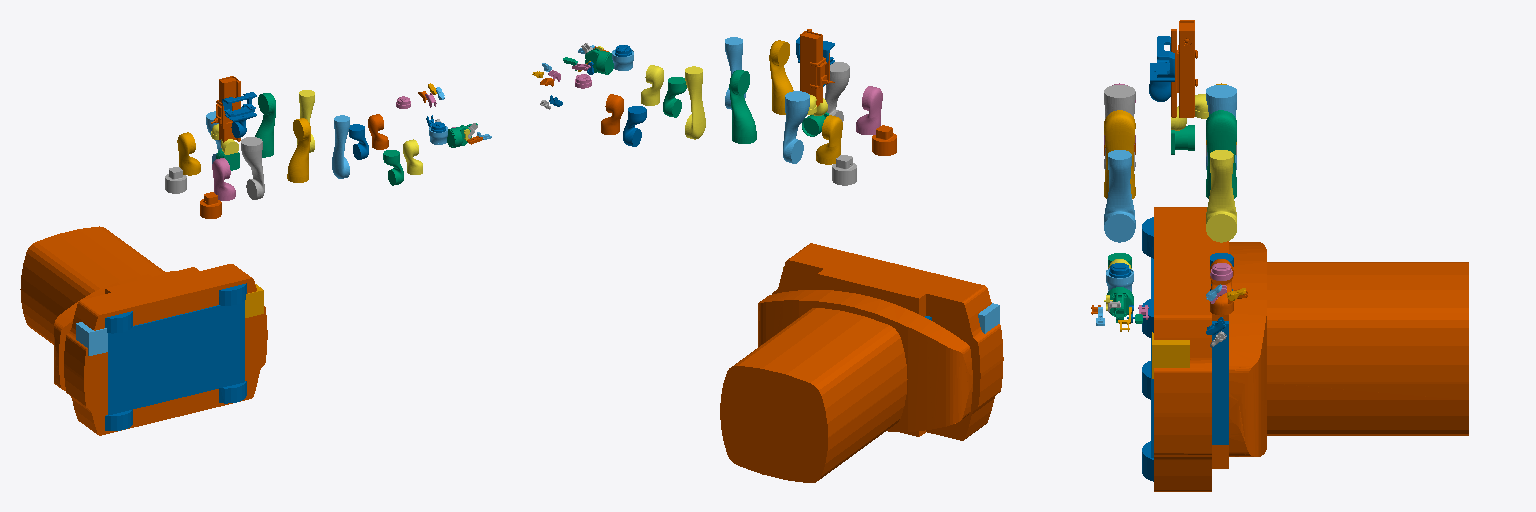
--- What the picture shows (computed from the rendered views, not written in the file) ---
The picture shows the robot from 3 angles, left to right: view 1: azimuth 30°, elevation 25°; view 2: azimuth 150°, elevation 25°; view 3: azimuth 270°, elevation 25°; orthographic projection.
Robot: movo — 58 links, 57 joints (21 revolute, 5 continuous, 4 prismatic, 27 fixed); root link world_link; default pose: all joints at 0.
Links seen in each view (by area): view 1: linear_actuator_fixed_link, base_chassis_link, right_arm_half_2_link, right_arm_half_1_link, kinect2_link, left_arm_half_2_link, right_forearm_link, tilt_link, rear_laser_link, right_shoulder_link, left_shoulder_link; view 2: linear_actuator_fixed_link, kinect2_link, left_arm_half_2_link, left_arm_half_1_link, right_arm_half_2_link, left_forearm_link, left_shoulder_link, right_shoulder_link, right_arm_half_1_link, left_wrist_spherical_1_link, right_wrist_spherical_2_link, left_wrist_spherical_2_link (+5 smaller); view 3: linear_actuator_fixed_link, base_chassis_link, right_forearm_link, left_forearm_link, kinect2_link, right_arm_half_2_link, left_arm_half_2_link, tilt_link, front_laser_link, right_arm_half_1_link, left_arm_half_1_link, left_wrist_spherical_2_link (+2 smaller).
Link boxes in pixels (<box>): linear_actuator_fixed_link: <box>20,226,267,435</box>; base_chassis_link: <box>105,283,246,430</box>; right_arm_half_2_link: <box>287,118,310,182</box>; right_arm_half_1_link: <box>241,137,264,199</box>; kinect2_link: <box>211,76,240,142</box>; left_arm_half_2_link: <box>255,93,275,157</box>; right_forearm_link: <box>332,115,349,178</box>; tilt_link: <box>222,92,256,137</box>; rear_laser_link: <box>76,322,107,355</box>; right_shoulder_link: <box>212,158,235,200</box>; left_shoulder_link: <box>177,132,200,175</box>; linear_actuator_fixed_link: <box>720,243,1003,482</box>; kinect2_link: <box>800,29,834,106</box>; left_arm_half_2_link: <box>729,70,756,143</box>; left_arm_half_1_link: <box>783,91,809,163</box>; right_arm_half_2_link: <box>769,40,793,114</box>; left_forearm_link: <box>685,66,705,139</box>; left_shoulder_link: <box>816,115,842,164</box>; right_shoulder_link: <box>856,86,882,134</box>; right_arm_half_1_link: <box>825,62,849,121</box>; left_wrist_spherical_1_link: <box>623,106,646,146</box>; right_wrist_spherical_2_link: <box>641,65,663,105</box>; left_wrist_spherical_2_link: <box>601,94,623,134</box>; linear_actuator_fixed_link: <box>1154,207,1468,491</box>; base_chassis_link: <box>1142,217,1228,481</box>; right_forearm_link: <box>1104,150,1135,242</box>; left_forearm_link: <box>1206,150,1236,242</box>; kinect2_link: <box>1171,20,1197,117</box>; right_arm_half_2_link: <box>1104,110,1135,198</box>; left_arm_half_2_link: <box>1206,110,1236,198</box>; tilt_link: <box>1149,36,1174,101</box>; front_laser_link: <box>1152,332,1189,378</box>; right_arm_half_1_link: <box>1104,85,1135,170</box>; left_arm_half_1_link: <box>1206,85,1236,169</box>; left_wrist_spherical_2_link: <box>1210,259,1233,314</box>.
Bounding box of the posed robot: 1.71 × 0.991 × 1.32 m (x, y, z).
Meshes: 27 distinct files referenced, 38 mesh visuals loaded (22 OBJ); not drawn: 5 (reference not matched to a file when rendering).

The robot description file, URDF, robot "movo":
<?xml version="1.0" ?>
<!-- =================================================================================== -->
<!-- |    This document was autogenerated by xacro from movo.urdf.xacro                | -->
<!-- |    EDITING THIS FILE BY HAND IS NOT RECOMMENDED                                 | -->
<!-- =================================================================================== -->
<!--
Software License Agreement (BSD)
\file      movo.urdf.xacro
\authors   Patrick Hussey
\copyright Copyright (c) 2017, Kinova Robotics inc. All rights reserved.
Redistribution and use in source and binary forms, with or without modification,
are permitted provided that the following conditions are met:
    * Redistributions of source code must retain the above copyright notice,
      this list of conditions and the following disclaimer.
    * Redistributions in binary form must reproduce the above copyright notice,
      this list of conditions and the following disclaimer in the documentation
      and/or other materials provided with the distribution.
    * Neither the name of the copyright holder nor the names of its contributors
      may be used to endorse or promote products derived from this software
      without specific prior written permission.
THIS SOFTWARE IS PROVIDED BY THE COPYRIGHT HOLDERS AND CONTRIBUTORS
"AS IS" AND ANY EXPRESS OR IMPLIED WARRANTIES, INCLUDING, BUT NOT
LIMITED TO, THE IMPLIED WARRANTIES OF MERCHANTABILITY AND FITNESS FOR
A PARTICULAR PURPOSE ARE DISCLAIMED. IN NO EVENT SHALL THE COPYRIGHT HOLDER OR
CONTRIBUTORS BE LIABLE FOR ANY DIRECT, INDIRECT, INCIDENTAL, SPECIAL,
EXEMPLARY, OR CONSEQUENTIAL DAMAGES (INCLUDING, BUT NOT LIMITED TO,
PROCUREMENT OF SUBSTITUTE GOODS OR SERVICES; LOSS OF USE, DATA, OR
PROFITS; OR BUSINESS INTERRUPTION) HOWEVER CAUSED AND ON ANY THEORY OF
LIABILITY, WHETHER IN CONTRACT, STRICT LIABILITY, OR TORT (INCLUDING
NEGLIGENCE OR OTHERWISE) ARISING IN ANY WAY OUT OF THE USE OF THIS
SOFTWARE, EVEN IF ADVISED OF THE POSSIBILITY OF SUCH DAMAGE.
-->
<!-- https://github.mit.edu/Learning-and-Intelligent-Systems/ltamp_pr2/blob/master/control_tools/ik/ik_tools/movo_ik/movo_robotiq.urdf -->
<robot name="movo" xmlns:xacro="http://ros.org/wiki/xacro">
  <!-- Included URDF/XACRO Files -->
  <gazebo>
    <plugin filename="libgazebo_ros_control.so" name="gazebo_ros_control">
      <robotNamespace>/</robotNamespace>
    </plugin>
    <plugin filename="libgazebo_ros_force_based_move.so" name="object_controller">
      <robotNamespace>/</robotNamespace>
      <commandTopic>/movo/cmd_vel</commandTopic>
      <odometryTopic>/movo/odometry/wheel_odometry</odometryTopic>
      <odometryFrame>odom</odometryFrame>
      <odometryRate>100.0</odometryRate>
      <cmdVelTimeOut>0.2</cmdVelTimeOut>
      <robotBaseFrame>base_link</robotBaseFrame>
      <publishOdometryTf>0</publishOdometryTf>
      <yaw_velocity_p_gain>500.0</yaw_velocity_p_gain>
      <x_velocity_p_gain>10000.0</x_velocity_p_gain>
      <y_velocity_p_gain>10000.0</y_velocity_p_gain>
    </plugin>
    <plugin filename="libgazebo_ros_p3d.so" name="gazebo_ros_p3d">
      <bodyName>base_link</bodyName>
      <topicName>ground_truth_odom</topicName>
      <alwaysOn>true</alwaysOn>
      <updateRate>100.0</updateRate>
    </plugin>
  </gazebo>
  <!-- Modification -->
  <link name="world_link">
    <inertial>
      <mass value="1"/>
      <inertia ixx="0.04" ixy="0.00" ixz="0.00" iyy="0.04" iyz="0.00" izz="0.02"/>
    </inertial>
  </link>
  <link name="base_link_0">
    <inertial>
      <mass value="1"/>
      <inertia ixx="0.04" ixy="0.00" ixz="0.00" iyy="0.04" iyz="0.00" izz="0.02"/>
    </inertial>
  </link>
  <link name="base_link_1">
    <inertial>
      <mass value="1"/>
      <inertia ixx="0.04" ixy="0.00" ixz="0.00" iyy="0.04" iyz="0.00" izz="0.02"/>
    </inertial>
  </link>
  <joint name="x" type="prismatic">
    <parent link="world_link"/>
    <child link="base_link_0"/>
    <axis xyz="1 0 0"/>
    <limit effort="1000.0" lower="-2.5" upper="2.5" velocity="1.0"/>
  </joint>
  <joint name="y" type="prismatic">
    <parent link="base_link_0"/>
    <child link="base_link_1"/>
    <axis xyz="0 1 0"/>
    <limit effort="1000.0" lower="-2.5" upper="2.5" velocity="1.0"/>
  </joint>
  <joint name="theta" type="continuous">
    <parent link="base_link_1"/>
    <child link="base_link"/>
    <axis xyz="0 0 1"/>
    <limit effort="1000.0" velocity="1.5708"/>
  </joint>
  <!-- Base link is the center of the robot's chassis between the motors projected on the ground -->
  <link name="base_link">
    <inertial>
      <mass value="1"/>
      <inertia ixx="0.04" ixy="0.00" ixz="0.00" iyy="0.04" iyz="0.00" izz="0.02"/>
    </inertial>
  </link>
  <gazebo reference="base_link">
    <mu1>0.0</mu1>
  </gazebo>
  <joint name="base_chassis_joint" type="fixed">
    <origin rpy="0 0 0" xyz="0 0 0.0762"/>
    <parent link="base_link"/>
    <child link="base_chassis_link"/>
  </joint>
  <link name="base_chassis_link">
    <inertial>
      <mass value="1"/>
      <inertia ixx="0.04" ixy="0.00" ixz="0.00" iyy="0.04" iyz="0.00" izz="0.02"/>
    </inertial>
    <collision>
      <geometry>
        <mesh filename="package://movo_description_drake/meshes/movo_components/collision/vector_base_collision.obj"/>
      </geometry>
    </collision>
    <visual>
      <origin rpy="0 0 0" xyz="0 0 0"/>
      <geometry>
        <mesh filename="package://movo_description_drake/meshes/movo_components/collision/vector_base_collision.obj"/>
      </geometry>
    </visual>
  </link>
  <gazebo reference="base_chassis_link">
    <laserRetro>0</laserRetro>
  </gazebo>
  <gazebo reference="base_chassis_link">
    <mu1>0.0</mu1>
  </gazebo>
  <joint name="linear_actuator_fixed_joint" type="fixed">
    <origin rpy="0 0 0" xyz="0 0 0"/>
    <parent link="base_chassis_link"/>
    <child link="linear_actuator_fixed_link"/>
  </joint>
  <link name="linear_actuator_fixed_link">
    <inertial>
      <mass value="1"/>
      <inertia ixx="0.04" ixy="0.00" ixz="0.00" iyy="0.04" iyz="0.00" izz="0.02"/>
    </inertial>
    <collision>
      <geometry>
        <mesh filename="package://movo_description_drake/meshes/movo_components/collision/movo_fixed_body_collision.obj"/>
      </geometry>
    </collision>
    <visual>
      <origin rpy="0 0 0" xyz="0 0 0"/>
      <geometry>
        <mesh filename="package://movo_description_drake/meshes/movo_components/collision/movo_fixed_body_collision.obj"/>
      </geometry>
    </visual>
  </link>
  <gazebo reference="linear_actuator_fixed_link">
    <laserRetro>0</laserRetro>
  </gazebo>
  <joint name="linear_joint" type="prismatic">
    <parent link="linear_actuator_fixed_link"/>
    <child link="linear_actuator_link"/>
    <origin rpy="0 0 0" xyz="0.0771402 0 0.3938763"/>
    <axis xyz="0 0 1"/>
    <limit effort="1000" lower="0.0" upper="0.472" velocity="0.20"/>
    <dynamics damping="0.0" friction="0.0"/>
  </joint>
  <link name="linear_actuator_link">
    <visual>
      <geometry>
        <mesh filename="package://movo_description_drake/meshes/movo_components/collision/movo_upper_body_collision.stl"/>
      </geometry>
    </visual>
    <collision>
      <geometry>
        <mesh filename="package://movo_description_drake/meshes/movo_components/collision/movo_upper_body_collision_modified.obj"/>
      </geometry>
    </collision>
    <inertial>
      <mass value="1"/>
      <inertia ixx="0.04" ixy="0.00" ixz="0.00" iyy="0.04" iyz="0.00" izz="0.02"/>
    </inertial>
  </link>
  <gazebo reference="linear_actuator_link">
    <laserRetro>0</laserRetro>
  </gazebo>
  <transmission name="linear_trans">
    <type>transmission_interface/SimpleTransmission</type>
    <joint name="linear_joint">
      <hardwareInterface>PositionJointInterface</hardwareInterface>
    </joint>
    <actuator name="linear_motor">
      <mechanicalReduction>1</mechanicalReduction>
    </actuator>
  </transmission>
  <link name="sic_imu_frame">
    <inertial>
      <mass value="1"/>
      <inertia ixx="0.04" ixy="0.00" ixz="0.00" iyy="0.04" iyz="0.00" izz="0.02"/>
    </inertial>
  </link>
  <joint name="sic_imu_joint" type="fixed">
    <origin rpy="3.14159 0 1.570795" xyz="0.0326421 0.0899448 0.0082008"/>
    <parent link="base_chassis_link"/>
    <child link="sic_imu_frame"/>
  </joint>
  <gazebo>
    <plugin filename="libhector_gazebo_ros_imu.so" name="sic_imu_controller">
      <alwaysOn>1</alwaysOn>
      <updateRate>50.0</updateRate>
      <bodyName>sic_imu_frame</bodyName>
      <topicName>/movo/feedback/sic_imu</topicName>
      <accelDrift>0.0005 0.0005 0.0005</accelDrift>
      <accelGaussianNoise>0.0005 0.0005 0.0005</accelGaussianNoise>
      <rateDrift>0.0005 0.0005 0.0005</rateDrift>
      <rateGaussianNoise>0.00005 0.00005 0.00005 </rateGaussianNoise>
      <headingDrift>0.00005</headingDrift>
      <headingGaussianNoise>0.00005</headingGaussianNoise>
    </plugin>
  </gazebo>
  <joint name="front_laser_joint" type="fixed">
    <origin rpy="3.14159 0 0" xyz="0.3375 0 0.1439106"/>
    <parent link="base_chassis_link"/>
    <child link="front_laser_link"/>
  </joint>
  <link name="front_laser_link">
    <visual>
      <geometry>
        <box size="0.1 0.1 0.1"/>
      </geometry>
    </visual>
    <collision>
      <geometry>
        <box size="0.1 0.1 0.1"/>
      </geometry>
    </collision>
    <inertial>
      <mass value="1"/>
      <inertia ixx="0.04" ixy="0.00" ixz="0.00" iyy="0.04" iyz="0.00" izz="0.02"/>
    </inertial>
  </link>
  <gazebo reference="front_laser_link">
    <sensor name="front_laser" type="ray">
      <pose>0 0 0 0 0 0</pose>
      <visualize>false</visualize>
      <update_rate>15</update_rate>
      <ray>
        <scan>
          <horizontal>
            <samples>720</samples>
            <resolution>1</resolution>
            <min_angle>-2.0</min_angle>
            <max_angle>2.0</max_angle>
          </horizontal>
        </scan>
        <range>
          <min>0.1</min>
          <max>25.0</max>
          <resolution>0.01</resolution>
        </range>
        <noise>
          <type>gaussian</type>
          <mean>0.0</mean>
          <stddev>0.01</stddev>
        </noise>
      </ray>
      <plugin filename="libgazebo_ros_laser.so" name="front_laser_node">
        <topicName>/movo/front_scan</topicName>
        <frameName>front_laser_link</frameName>
      </plugin>
    </sensor>
  </gazebo>
  <joint name="rear_laser_joint" type="fixed">
    <origin rpy="3.14159 0 3.14159" xyz="-0.3375 0 0.1439106"/>
    <parent link="base_chassis_link"/>
    <child link="rear_laser_link"/>
  </joint>
  <link name="rear_laser_link">
    <visual>
      <geometry>
        <box size="0.1 0.1 0.1"/>
      </geometry>
    </visual>
    <collision>
      <geometry>
        <box size="0.1 0.1 0.1"/>
      </geometry>
    </collision>
    <inertial>
      <mass value="1"/>
      <inertia ixx="0.04" ixy="0.00" ixz="0.00" iyy="0.04" iyz="0.00" izz="0.02"/>
    </inertial>
  </link>
  <gazebo reference="rear_laser_link">
    <sensor name="rear_laser" type="ray">
      <pose>0 0 0 0 0 0</pose>
      <visualize>false</visualize>
      <update_rate>15</update_rate>
      <ray>
        <scan>
          <horizontal>
            <samples>720</samples>
            <resolution>1</resolution>
            <min_angle>-2.0</min_angle>
            <max_angle>2.0</max_angle>
          </horizontal>
        </scan>
        <range>
          <min>0.1</min>
          <max>25.0</max>
          <resolution>0.01</resolution>
        </range>
        <noise>
          <type>gaussian</type>
          <mean>0.0</mean>
          <stddev>0.01</stddev>
        </noise>
      </ray>
      <plugin filename="libgazebo_ros_laser.so" name="rear_laser_node">
        <topicName>/movo/rear_scan</topicName>
        <frameName>rear_laser_link</frameName>
      </plugin>
    </sensor>
  </gazebo>
  <joint name="pan_base_joint" type="fixed">
    <origin rpy="0 0 0" xyz="0.19735 0 0.3449888"/>
    <parent link="linear_actuator_link"/>
    <child link="pan_base_link"/>
  </joint>
  <link name="pan_base_link">
    <visual>
      <geometry>
        <mesh filename="package://movo_description_drake/meshes/pan_tilt/collision/pan_tilt_base.obj"/>
      </geometry>
    </visual>
    <collision>
      <geometry>
        <mesh filename="package://movo_description_drake/meshes/pan_tilt/collision/pan_tilt_base.obj"/>
      </geometry>
    </collision>
    <inertial>
      <mass value="1"/>
      <inertia ixx="0.04" ixy="0.00" ixz="0.00" iyy="0.04" iyz="0.00" izz="0.02"/>
    </inertial>
  </link>
  <joint name="pan_joint" type="revolute">
    <origin rpy="3.14159 0 0" xyz="0 0 0.05525"/>
    <axis xyz="0 0 1"/>
    <parent link="pan_base_link"/>
    <child link="pan_link"/>
    <limit effort="7.0" lower="-1.570796326794897" upper="1.570796326794897" velocity="0.907571211"/>
  </joint>
  <transmission name="pan_trans" type="SimpleTransmission">
    <type>transmission_interface/SimpleTransmission</type>
    <joint name="pan_joint">
      <hardwareInterface>PositionJointInterface</hardwareInterface>
    </joint>
    <actuator name="pan_actuator">
      <mechanicalReduction>1</mechanicalReduction>
    </actuator>
  </transmission>
  <link name="pan_link">
    <visual>
      <geometry>
        <mesh filename="package://movo_description_drake/meshes/pan_tilt/collision/pan_link.obj"/>
      </geometry>
    </visual>
    <collision>
      <origin rpy="0 0 0" xyz="0 0 0"/>
      <geometry>
        <mesh filename="package://movo_description_drake/meshes/pan_tilt/collision/pan_link.obj"/>
      </geometry>
    </collision>
    <inertial>
      <mass value="1"/>
      <inertia ixx="0.04" ixy="0.00" ixz="0.00" iyy="0.04" iyz="0.00" izz="0.02"/>
    </inertial>
  </link>
  <joint name="tilt_joint" type="revolute">
    <origin rpy="-1.570795 1.570795 0" xyz="0 0.026 -0.09075"/>
    <axis xyz="0 0 1"/>
    <parent link="pan_link"/>
    <child link="tilt_link"/>
    <limit effort="7.0" lower="-1.570796326794897" upper="1.570796326794897" velocity="0.907571211"/>
  </joint>
  <transmission name="tilt_trans" type="SimpleTransmission">
    <type>transmission_interface/SimpleTransmission</type>
    <joint name="tilt_joint">
      <hardwareInterface>PositionJointInterface</hardwareInterface>
    </joint>
    <actuator name="tilt_actuator">
      <mechanicalReduction>1</mechanicalReduction>
    </actuator>
  </transmission>
  <link name="tilt_link">
    <visual>
      <geometry>
        <mesh filename="package://movo_description_drake/meshes/pan_tilt/collision/tilt_link.obj"/>
      </geometry>
    </visual>
    <collision>
      <geometry>
        <mesh filename="package://movo_description_drake/meshes/pan_tilt/collision/tilt_link.obj"/>
      </geometry>
    </collision>
    <inertial>
      <mass value="1"/>
      <inertia ixx="0.04" ixy="0.00" ixz="0.00" iyy="0.04" iyz="0.00" izz="0.02"/>
    </inertial>
  </link>
  <joint name="kinect2_joint" type="fixed">
    <origin rpy="-1.570795 0 -1.570795" xyz="0.05825 -0.0105875 -0.026"/>
    <parent link="tilt_link"/>
    <child link="kinect2_link"/>
  </joint>
  <link name="kinect2_link">
    <inertial>
      <mass value="1"/>
      <inertia ixx="0.04" ixy="0.00" ixz="0.00" iyy="0.04" iyz="0.00" izz="0.02"/>
    </inertial>
    <visual>
      <geometry>
        <mesh filename="package://movo_description_drake/meshes/sensors/collision/kinect_one_collision.obj"/>
      </geometry>
    </visual>
    <collision>
      <geometry>
        <mesh filename="package://movo_description_drake/meshes/sensors/collision/kinect_one_collision.obj"/>
      </geometry>
    </collision>
  </link>
  <link name="kinect2_ir_link">
    <inertial>
      <mass value="1"/>
      <inertia ixx="0.04" ixy="0.00" ixz="0.00" iyy="0.04" iyz="0.00" izz="0.02"/>
    </inertial>
  </link>
  <joint name="kinect2_ir_joint" type="fixed">
    <parent link="kinect2_link"/>
    <child link="kinect2_ir_link"/>
    <origin rpy="0 0 0" xyz="0.0245 -0.03325  0.04201"/>
  </joint>
  <link name="kinect2_ir_optical_frame">
    <inertial>
      <mass value="1"/>
      <inertia ixx="0.04" ixy="0.00" ixz="0.00" iyy="0.04" iyz="0.00" izz="0.02"/>
    </inertial>
  </link>
  <joint name="kinect2_ir_optical_frame_joint" type="fixed">
    <origin rpy="-1.570795 0 -1.570795" xyz="0 0 0"/>
    <parent link="kinect2_ir_link"/>
    <child link="kinect2_ir_optical_frame"/>
  </joint>
  <link name="kinect2_rgb_link">
    <inertial>
      <mass value="1"/>
      <inertia ixx="0.04" ixy="0.00" ixz="0.00" iyy="0.04" iyz="0.00" izz="0.02"/>
    </inertial>
  </link>
  <joint name="kinect2_rgb_joint" type="fixed">
    <parent link="kinect2_ir_link"/>
    <child link="kinect2_rgb_link"/>
    <origin rpy="0 0 0" xyz="0 -0.06175  0"/>
  </joint>
  <link name="kinect2_rgb_optical_frame">
    <inertial>
      <mass value="1"/>
      <inertia ixx="0.04" ixy="0.00" ixz="0.00" iyy="0.04" iyz="0.00" izz="0.02"/>
    </inertial>
  </link>
  <joint name="kinect2_rgb_optical_joint" type="fixed">
    <parent link="kinect2_rgb_link"/>
    <child link="kinect2_rgb_optical_frame"/>
    <origin rpy="-1.570795 0 -1.570795" xyz="0 0 0"/>
  </joint>
  <gazebo reference="kinect2_ir_link">
    <sensor name="kinect2_ir_sensor" type="depth">
      <always_on>true</always_on>
      <update_rate>30.0</update_rate>
      <camera>
        <horizontal_fov>1.22172944444</horizontal_fov>
        <image>
          <format>L8</format>
          <width>512</width>
          <height>424</height>
        </image>
        <clip>
          <near>0.01</near>
          <far>100</far>
        </clip>
      </camera>
      <plugin filename="libgazebo_ros_openni_kinect.so" name="kinect2_ir_link_controller">
        <baseline>0.2</baseline>
        <alwaysOn>true</alwaysOn>
        <updateRate>1.0</updateRate>
        <cameraName>kinect2/sd/image_ir</cameraName>
        <imageTopicName>/kinect2/sd/image_ir</imageTopicName>
        <cameraInfoTopicName>/kinect2/sd/camera_info</cameraInfoTopicName>
        <depthImageTopicName>/kinect2/sd/image_depth</depthImageTopicName>
        <depthImageCameraInfoTopicName>/kinect2/sd/depth/camera_info</depthImageCameraInfoTopicName>
        <pointCloudTopicName>/kinect2/sd/points</pointCloudTopicName>
        <frameName>kinect2_ir_optical_frame</frameName>
        <pointCloudCutoff>0.1</pointCloudCutoff>
        <pointCloudCutoffMax>12.0</pointCloudCutoffMax>
        <distortionK1>0.0</distortionK1>
        <distortionK2>0.0</distortionK2>
        <distortionK3>0.0</distortionK3>
        <distortionT1>0.0</distortionT1>
        <distortionT2>0.0</distortionT2>
        <CxPrime>0</CxPrime>
        <Cx>0</Cx>
        <Cy>0</Cy>
        <focalLength>0</focalLength>
        <hackBaseline>0</hackBaseline>
      </plugin>
    </sensor>
    <material value="Gazebo/Red"/>
  </gazebo>
  <joint name="lower_body_joint" type="fixed">
    <origin rpy="0 0 0" xyz="0 0 0"/>
    <parent link="base_chassis_link"/>
    <child link="lower_body_link"/>
  </joint>
  <link name="lower_body_link">
    <inertial>
      <mass value="1"/>
      <inertia ixx="0.04" ixy="0.00" ixz="0.00" iyy="0.04" iyz="0.00" izz="0.02"/>
    </inertial>
    <visual>
      <origin rpy="0 0 0" xyz="0 0 0"/>
      <geometry>
        <mesh filename="package://movo_description_drake/meshes/movo_body/movo_lower_body.dae"/>
      </geometry>
    </visual>
  </link>
  <joint name="upper_body_joint" type="fixed">
    <origin rpy="0 0 0" xyz="0 0 0"/>
    <parent link="linear_actuator_link"/>
    <child link="upper_body_link"/>
  </joint>
  <link name="upper_body_link">
    <inertial>
      <mass value="1"/>
      <inertia ixx="0.04" ixy="0.00" ixz="0.00" iyy="0.04" iyz="0.00" izz="0.02"/>
    </inertial>
    <visual>
      <origin rpy="0 0 0" xyz="0 0 0"/>
      <geometry>
        <mesh filename="package://movo_description_drake/meshes/movo_body/movo_upper_body.dae"/>
      </geometry>
    </visual>
  </link>
  <joint name="mid_body_joint" type="prismatic">
    <parent link="base_chassis_link"/>
    <child link="mid_body_link"/>
    <origin rpy="0 0 0" xyz="0.0771402 0 0.3938763"/>
    <axis xyz="0 0 1"/>
    <limit effort="1000" lower="0.0" upper="0.2545608" velocity="0.20"/>
    <dynamics damping="0.0" friction="0.0"/>
    <mimic joint="linear_joint" multiplier="0.5" offset="0.0"/>
  </joint>
  <link name="mid_body_link">
    <inertial>
      <mass value="1"/>
      <inertia ixx="0.04" ixy="0.00" ixz="0.00" iyy="0.04" iyz="0.00" izz="0.02"/>
    </inertial>
    <visual>
      <origin rpy="0 0 0" xyz="0 0 0"/>
      <geometry>
        <mesh filename="package://movo_description_drake/meshes/movo_body/movo_mid_body.dae"/>
      </geometry>
    </visual>
  </link>
  <gazebo reference="mid_body_link">
    <gravity>0</gravity>
  </gazebo>
  <gazebo>
    <!-- loading plugin: mimic joints works in gazebo now -->
    <plugin filename="libroboticsgroup_gazebo_mimic_joint_plugin.so" name="mid_body_mimic">
      <joint>linear_joint</joint>
      <mimicJoint>mid_body_joint</mimicJoint>
      <multiplier>0.5</multiplier>
      <offset>0.0</offset>
      <maxEffort>100000.0</maxEffort>
    </plugin>
  </gazebo>
  <joint name="right_kinova_joint" type="fixed">
    <parent link="linear_actuator_link"/>
    <child link="right_base_link"/>
    <origin rpy="-1.570796325 0 -1.570796325" xyz="0.0261046 -0.13335 0.2799937"/>
  </joint>
  <link name="right_base_link">
    <visual>
      <geometry>
        <mesh filename="package://movo_description_drake/meshes/manipulation/jaco/collision/base.obj"/>
      </geometry>
    </visual>
    <collision>
      <geometry>
        <mesh filename="package://movo_description_drake/meshes/manipulation/jaco/collision/base.obj"/>
      </geometry>
    </collision>
    <inertial>
      <mass value="1"/>
      <inertia ixx="0.04" ixy="0.00" ixz="0.00" iyy="0.04" iyz="0.00" izz="0.02"/>
    </inertial>
  </link>
  <gazebo reference="right_base_link">
    <implicitSpringDamper>1</implicitSpringDamper>
    <kp>1000000.0</kp>
    <kd>100.0</kd>
    <mu1>1.0</mu1>
    <mu2>1.0</mu2>
    <maxVel>100.0</maxVel>
    <minDepth>0.001</minDepth>
  </gazebo>
  <joint name="right_shoulder_pan_joint" type="revolute">
    <parent link="right_base_link"/>
    <child link="right_shoulder_link"/>
    <origin rpy="0 3.14159265 0" xyz="0 0 0.0625"/>
    <axis xyz="0 0 1"/>
    <limit effort="18000.0" lower="-3.14159265" upper="3.14159265" velocity="0.691150384"/>
    <dynamics damping="0.01" friction="0.0"/>
  </joint>
  <link name="right_shoulder_link">
    <visual>
      <geometry>
        <mesh filename="package://movo_description_drake/meshes/manipulation/jaco/collision/shoulder_7dof.obj"/>
      </geometry>
    </visual>
    <collision>
      <geometry>
        <mesh filename="package://movo_description_drake/meshes/manipulation/jaco/collision/shoulder_7dof.obj"/>
      </geometry>
    </collision>
    <inertial>
      <mass value="1"/>
      <inertia ixx="0.04" ixy="0.00" ixz="0.00" iyy="0.04" iyz="0.00" izz="0.02"/>
    </inertial>
  </link>
  <gazebo reference="right_shoulder_link">
    <implicitSpringDamper>1</implicitSpringDamper>
    <kp>1000000.0</kp>
    <kd>100.0</kd>
    <mu1>1.0</mu1>
    <mu2>1.0</mu2>
    <maxVel>100.0</maxVel>
    <minDepth>0.001</minDepth>
  </gazebo>
  <joint name="right_shoulder_lift_joint" type="revolute">
    <parent link="right_shoulder_link"/>
    <child link="right_arm_half_1_link"/>
    <origin rpy="1.570796325 0 0" xyz="0 0 -0.11875"/>
    <axis xyz="0 0 1"/>
    <limit effort="30000.5" lower="-2.238" upper="2.238" velocity="0.691150384"/>
    <dynamics damping="0.01" friction="0.0"/>
  </joint>
  <link name="right_arm_half_1_link">
    <visual>
      <geometry>
        <mesh filename="package://movo_description_drake/meshes/manipulation/jaco/collision/arm_half_1.obj"/>
      </geometry>
    </visual>
    <collision>
      <geometry>
        <mesh filename="package://movo_description_drake/meshes/manipulation/jaco/collision/arm_half_1.obj"/>
      </geometry>
    </collision>
    <inertial>
      <mass value="1"/>
      <inertia ixx="0.04" ixy="0.00" ixz="0.00" iyy="0.04" iyz="0.00" izz="0.02"/>
    </inertial>
  </link>
  <gazebo reference="right_arm_half_1_link">
    <implicitSpringDamper>1</implicitSpringDamper>
    <kp>1000000.0</kp>
    <kd>100.0</kd>
    <mu1>1.0</mu1>
    <mu2>1.0</mu2>
    <maxVel>100.0</maxVel>
    <minDepth>0.001</minDepth>
  </gazebo>
  <joint name="right_arm_half_joint" type="revolute">
    <parent link="right_arm_half_1_link"/>
    <child link="right_arm_half_2_link"/>
    <origin rpy="-1.570796325 0 0" xyz="0 -0.205 0"/>
    <axis xyz="0 0 1"/>
    <limit effort="30000.5" lower="-3.14159265" upper="3.14159265" velocity="0.691150384"/>
    <dynamics damping="0.01" friction="0.0"/>
  </joint>
  <link name="right_arm_half_2_link">
    <visual>
      <geometry>
        <mesh filename="package://movo_description_drake/meshes/manipulation/jaco/collision/arm_half_2.obj"/>
      </geometry>
    </visual>
    <collision>
      <geometry>
        <mesh filename="package://movo_description_drake/meshes/manipulation/jaco/collision/arm_half_2.obj"/>
      </geometry>
    </collision>
    <inertial>
      <mass value="1"/>
      <inertia ixx="0.04" ixy="0.00" ixz="0.00" iyy="0.04" iyz="0.00" izz="0.02"/>
    </inertial>
  </link>
  <gazebo reference="right_arm_half_2_link">
    <implicitSpringDamper>1</implicitSpringDamper>
    <kp>1000000.0</kp>
    <kd>100.0</kd>
    <mu1>1.0</mu1>
    <mu2>1.0</mu2>
    <maxVel>100.0</maxVel>
    <minDepth>0.001</minDepth>
  </gazebo>
  <joint name="right_elbow_joint" type="revolute">
    <parent link="right_arm_half_2_link"/>
    <child link="right_forearm_link"/>
    <origin rpy="-1.570796325 0 0" xyz="0 0 -0.205"/>
    <axis xyz="0 0 1"/>
    <limit effort="18000.0" lower="-2.809" upper="2.809" velocity="0.691150384"/>
    <dynamics damping="0.01" friction="0.0"/>
  </joint>
  <link name="right_forearm_link">
    <visual>
      <geometry>
        <mesh filename="package://movo_description_drake/meshes/manipulation/jaco/collision/forearm_7dof.obj"/>
      </geometry>
    </visual>
    <collision>
      <geometry>
        <mesh filename="package://movo_description_drake/meshes/manipulation/jaco/collision/forearm_7dof.obj"/>
      </geometry>
    </collision>
    <inertial>
      <mass value="1"/>
      <inertia ixx="0.04" ixy="0.00" ixz="0.00" iyy="0.04" iyz="0.00" izz="0.02"/>
    </inertial>
  </link>
  <joint name="right_wrist_spherical_1_joint" type="revolute">
    <parent link="right_forearm_link"/>
    <child link="right_wrist_spherical_1_link"/>
    <!--  <origin xyz="0 0.20725 0 " rpy="${wrist_spherical_1_joint_rpy}" /> -->
    <origin rpy="1.570796325 3.14159265 0" xyz="0 0.2073 -0.0114"/>
    <axis xyz="0 0 1"/>
    <limit effort="60000.8" lower="-3.14159265" upper="3.14159265" velocity="0.921533845"/>
    <dynamics damping="0.01" friction="0.0"/>
  </joint>
  <link name="right_wrist_spherical_1_link">
    <visual>
      <geometry>
        <mesh filename="package://movo_description_drake/meshes/manipulation/jaco/collision/wrist_spherical_1.obj"/>
      </geometry>
    </visual>
    <collision>
      <geometry>
        <mesh filename="package://movo_description_drake/meshes/manipulation/jaco/collision/wrist_spherical_1.obj"/>
      </geometry>
    </collision>
    <inertial>
      <mass value="1"/>
      <inertia ixx="0.04" ixy="0.00" ixz="0.00" iyy="0.04" iyz="0.00" izz="0.02"/>
    </inertial>
  </link>
  <gazebo reference="right_wrist_spherical_1_link">
    <implicitSpringDamper>1</implicitSpringDamper>
    <kp>1000000.0</kp>
    <kd>100.0</kd>
    <mu1>1.0</mu1>
    <mu2>1.0</mu2>
    <maxVel>100.0</maxVel>
    <minDepth>0.001</minDepth>
  </gazebo>
  <joint name="right_wrist_spherical_2_joint" type="revolute">
    <parent link="right_wrist_spherical_1_link"/>
    <child link="right_wrist_spherical_2_link"/>
    <origin rpy="-1.570796325 0 0" xyz="0 0 -0.10375 "/>
    <axis xyz="0 0 1"/>
    <limit effort="60000.8" lower="-2.78" upper="2.78" velocity="0.921533845"/>
    <dynamics damping="0.01" friction="0.0"/>
  </joint>
  <link name="right_wrist_spherical_2_link">
    <visual>
      <geometry>
        <mesh filename="package://movo_description_drake/meshes/manipulation/jaco/collision/wrist_spherical_2.obj"/>
      </geometry>
    </visual>
    <collision>
      <geometry>
        <mesh filename="package://movo_description_drake/meshes/manipulation/jaco/collision/wrist_spherical_2.obj"/>
      </geometry>
    </collision>
    <inertial>
      <mass value="1"/>
      <inertia ixx="0.04" ixy="0.00" ixz="0.00" iyy="0.04" iyz="0.00" izz="0.02"/>
    </inertial>
  </link>
  <gazebo reference="right_wrist_spherical_2_link">
    <implicitSpringDamper>1</implicitSpringDamper>
    <kp>1000000.0</kp>
    <kd>100.0</kd>
    <mu1>1.0</mu1>
    <mu2>1.0</mu2>
    <maxVel>100.0</maxVel>
    <minDepth>0.001</minDepth>
  </gazebo>
  <joint name="right_wrist_3_joint" type="revolute">
    <parent link="right_wrist_spherical_2_link"/>
    <child link="right_wrist_3_link"/>
    <origin rpy="1.570796325 3.14159265 0" xyz="0 0.10375 0"/>
    <axis xyz="0 0 1"/>
    <limit effort="60000.8" lower="-3.14159265" upper="3.14159265" velocity="0.921533845"/>
    <dynamics damping="0.01" friction="0.0"/>
  </joint>
  <link name="right_wrist_3_link">
    <visual>
      <geometry>
        <mesh filename="package://movo_description_drake/meshes/manipulation/jaco/collision/kinova_actuator_gearing.obj"/>
      </geometry>
    </visual>
    <collision>
      <geometry>
        <mesh filename="package://movo_description_drake/meshes/manipulation/jaco/collision/kinova_actuator_gearing.obj"/>
      </geometry>
    </collision>
    <inertial>
      <mass value="1"/>
      <inertia ixx="0.04" ixy="0.00" ixz="0.00" iyy="0.04" iyz="0.00" izz="0.02"/>
    </inertial>
  </link>
  <gazebo reference="right_wrist_3_link">
    <implicitSpringDamper>1</implicitSpringDamper>
    <kp>1000000.0</kp>
    <kd>100.0</kd>
    <mu1>1.0</mu1>
    <mu2>1.0</mu2>
    <maxVel>100.0</maxVel>
    <minDepth>0.001</minDepth>
  </gazebo>
  <joint name="right_ee_fixed_joint" type="fixed">
    <parent link="right_wrist_3_link"/>
    <child link="right_ee_link"/>
    <origin rpy="3.14159265 1.570796325 0" xyz="0 0 -0.1600"/>
  </joint>
  <link name="right_ee_link">
    <inertial>
      <mass value="1"/>
      <inertia ixx="0.04" ixy="0.00" ixz="0.00" iyy="0.04" iyz="0.00" izz="0.02"/>
    </inertial>
  </link>
  <!-- Modification -->
  <joint name="right_tool_fixed_joint" type="fixed">
    <parent link="right_ee_link"/>
    <child link="right_tool_link"/>
    <origin rpy="1.570796325 0 1.570796325" xyz="0.02 0 0"/>
  </joint>
  <link name="right_tool_link">
    <inertial>
      <mass value="1"/>
      <inertia ixx="0.04" ixy="0.00" ixz="0.00" iyy="0.04" iyz="0.00" izz="0.02"/>
    </inertial>
  </link>
  <transmission name="right_shoulder_pan_trans">
    <type>transmission_interface/SimpleTransmission</type>
    <joint name="right_shoulder_pan_joint">
      <hardwareInterface>PositionJointInterface</hardwareInterface>
    </joint>
    <actuator name="right_shoulder_pan_motor">
      <mechanicalReduction>1</mechanicalReduction>
    </actuator>
  </transmission>
  <transmission name="right_shoulder_lift_trans">
    <type>transmission_interface/SimpleTransmission</type>
    <joint name="right_shoulder_lift_joint">
      <hardwareInterface>PositionJointInterface</hardwareInterface>
    </joint>
    <actuator name="right_shoulder_lift_motor">
      <mechanicalReduction>1</mechanicalReduction>
    </actuator>
  </transmission>
  <transmission name="right_half_arm_trans">
    <type>transmission_interface/SimpleTransmission</type>
    <joint name="right_arm_half_joint">
      <hardwareInterface>PositionJointInterface</hardwareInterface>
    </joint>
    <actuator name="right_arm_half_motor">
      <mechanicalReduction>1</mechanicalReduction>
    </actuator>
  </transmission>
  <transmission name="right_elbow_trans">
    <type>transmission_interface/SimpleTransmission</type>
    <joint name="right_elbow_joint">
      <hardwareInterface>PositionJointInterface</hardwareInterface>
    </joint>
    <actuator name="right_elbow_motor">
      <mechanicalReduction>1</mechanicalReduction>
    </actuator>
  </transmission>
  <transmission name="right_wrist_spherical_1_trans">
    <type>transmission_interface/SimpleTransmission</type>
    <joint name="right_wrist_spherical_1_joint">
      <hardwareInterface>PositionJointInterface</hardwareInterface>
    </joint>
    <actuator name="right_wrist_spherical_1_motor">
      <mechanicalReduction>1</mechanicalReduction>
    </actuator>
  </transmission>
  <transmission name="right_wrist_spherical_2_trans">
    <type>transmission_interface/SimpleTransmission</type>
    <joint name="right_wrist_spherical_2_joint">
      <hardwareInterface>PositionJointInterface</hardwareInterface>
    </joint>
    <actuator name="right_wrist_spherical_2_motor">
      <mechanicalReduction>1</mechanicalReduction>
    </actuator>
  </transmission>
  <transmission name="right_wrist_3_trans">
    <type>transmission_interface/SimpleTransmission</type>
    <joint name="right_wrist_3_joint">
      <hardwareInterface>PositionJointInterface</hardwareInterface>
    </joint>
    <actuator name="right_wrist_3_motor">
      <mechanicalReduction>1</mechanicalReduction>
    </actuator>
  </transmission>
  <joint name="left_kinova_joint" type="fixed">
    <parent link="linear_actuator_link"/>
    <child link="left_base_link"/>
    <origin rpy="-1.570796325 0 -1.570796325" xyz="0.0261046 0.13335 0.2799937"/>
  </joint>
  <link name="left_base_link">
    <visual>
      <geometry>
        <mesh filename="package://movo_description_drake/meshes/manipulation/jaco/collision/base.obj"/>
      </geometry>
    </visual>
    <collision>
      <geometry>
        <mesh filename="package://movo_description_drake/meshes/manipulation/jaco/collision/base.obj"/>
      </geometry>
    </collision>
    <inertial>
      <mass value="1"/>
      <inertia ixx="0.04" ixy="0.00" ixz="0.00" iyy="0.04" iyz="0.00" izz="0.02"/>
    </inertial>
  </link>
  <gazebo reference="left_base_link">
    <implicitSpringDamper>1</implicitSpringDamper>
    <kp>1000000.0</kp>
    <kd>100.0</kd>
    <mu1>1.0</mu1>
    <mu2>1.0</mu2>
    <maxVel>100.0</maxVel>
    <minDepth>0.001</minDepth>
  </gazebo>
  <joint name="left_shoulder_pan_joint" type="revolute">
    <parent link="left_base_link"/>
    <child link="left_shoulder_link"/>
    <origin rpy="0 3.14159265 0" xyz="0 0 0.0625"/>
    <axis xyz="0 0 1"/>
    <limit effort="18000.0" lower="-3.14159265" upper="3.14159265" velocity="0.691150384"/>
    <dynamics damping="0.01" friction="0.0"/>
  </joint>
  <link name="left_shoulder_link">
    <visual>
      <geometry>
        <mesh filename="package://movo_description_drake/meshes/manipulation/jaco/collision/shoulder_7dof.obj"/>
      </geometry>
    </visual>
    <collision>
      <geometry>
        <mesh filename="package://movo_description_drake/meshes/manipulation/jaco/collision/shoulder_7dof.obj"/>
      </geometry>
    </collision>
    <inertial>
      <mass value="1"/>
      <inertia ixx="0.04" ixy="0.00" ixz="0.00" iyy="0.04" iyz="0.00" izz="0.02"/>
    </inertial>
  </link>
  <gazebo reference="left_shoulder_link">
    <implicitSpringDamper>1</implicitSpringDamper>
    <kp>1000000.0</kp>
    <kd>100.0</kd>
    <mu1>1.0</mu1>
    <mu2>1.0</mu2>
    <maxVel>100.0</maxVel>
    <minDepth>0.001</minDepth>
  </gazebo>
  <joint name="left_shoulder_lift_joint" type="revolute">
    <parent link="left_shoulder_link"/>
    <child link="left_arm_half_1_link"/>
    <origin rpy="1.570796325 0 0" xyz="0 0 -0.11875"/>
    <axis xyz="0 0 1"/>
    <limit effort="30000.5" lower="-2.238" upper="2.238" velocity="0.691150384"/>
    <dynamics damping="0.01" friction="0.0"/>
  </joint>
  <link name="left_arm_half_1_link">
    <visual>
      <geometry>
        <mesh filename="package://movo_description_drake/meshes/manipulation/jaco/collision/arm_half_1.obj"/>
      </geometry>
    </visual>
    <collision>
      <geometry>
        <mesh filename="package://movo_description_drake/meshes/manipulation/jaco/collision/arm_half_1.obj"/>
      </geometry>
    </collision>
    <inertial>
      <mass value="1"/>
      <inertia ixx="0.04" ixy="0.00" ixz="0.00" iyy="0.04" iyz="0.00" izz="0.02"/>
    </inertial>
  </link>
  <gazebo reference="left_arm_half_1_link">
    <implicitSpringDamper>1</implicitSpringDamper>
    <kp>1000000.0</kp>
    <kd>100.0</kd>
    <mu1>1.0</mu1>
    <mu2>1.0</mu2>
    <maxVel>100.0</maxVel>
    <minDepth>0.001</minDepth>
  </gazebo>
  <joint name="left_arm_half_joint" type="revolute">
    <parent link="left_arm_half_1_link"/>
    <child link="left_arm_half_2_link"/>
    <origin rpy="-1.570796325 0 0" xyz="0 -0.205 0"/>
    <axis xyz="0 0 1"/>
    <limit effort="30000.5" lower="-3.14159265" upper="3.14159265" velocity="0.691150384"/>
    <dynamics damping="0.01" friction="0.0"/>
  </joint>
  <link name="left_arm_half_2_link">
    <visual>
      <geometry>
        <mesh filename="package://movo_description_drake/meshes/manipulation/jaco/collision/arm_half_2.obj"/>
      </geometry>
    </visual>
    <collision>
      <geometry>
        <mesh filename="package://movo_description_drake/meshes/manipulation/jaco/collision/arm_half_2.obj"/>
      </geometry>
    </collision>
    <inertial>
      <mass value="1"/>
      <inertia ixx="0.04" ixy="0.00" ixz="0.00" iyy="0.04" iyz="0.00" izz="0.02"/>
    </inertial>
  </link>
  <gazebo reference="left_arm_half_2_link">
    <implicitSpringDamper>1</implicitSpringDamper>
    <kp>1000000.0</kp>
    <kd>100.0</kd>
    <mu1>1.0</mu1>
    <mu2>1.0</mu2>
    <maxVel>100.0</maxVel>
    <minDepth>0.001</minDepth>
  </gazebo>
  <joint name="left_elbow_joint" type="revolute">
    <parent link="left_arm_half_2_link"/>
    <child link="left_forearm_link"/>
    <origin rpy="-1.570796325 0 0" xyz="0 0 -0.205"/>
    <axis xyz="0 0 1"/>
    <limit effort="18000.0" lower="-2.809" upper="2.809" velocity="0.691150384"/>
    <dynamics damping="0.01" friction="0.0"/>
  </joint>
  <link name="left_forearm_link">
    <visual>
      <geometry>
        <mesh filename="package://movo_description_drake/meshes/manipulation/jaco/collision/forearm_7dof.obj"/>
      </geometry>
    </visual>
    <collision>
      <geometry>
        <mesh filename="package://movo_description_drake/meshes/manipulation/jaco/collision/forearm_7dof.obj"/>
      </geometry>
    </collision>
    <inertial>
      <mass value="1"/>
      <inertia ixx="0.04" ixy="0.00" ixz="0.00" iyy="0.04" iyz="0.00" izz="0.02"/>
    </inertial>
  </link>
  <joint name="left_wrist_spherical_1_joint" type="revolute">
    <parent link="left_forearm_link"/>
    <child link="left_wrist_spherical_1_link"/>
    <!--  <origin xyz="0 0.20725 0 " rpy="${wrist_spherical_1_joint_rpy}" /> -->
    <origin rpy="1.570796325 3.14159265 0" xyz="0 0.2073 -0.0114"/>
    <axis xyz="0 0 1"/>
    <limit effort="60000.8" lower="-3.14159265" upper="3.14159265" velocity="0.921533845"/>
    <dynamics damping="0.01" friction="0.0"/>
  </joint>
  <link name="left_wrist_spherical_1_link">
    <visual>
      <geometry>
        <mesh filename="package://movo_description_drake/meshes/manipulation/jaco/collision/wrist_spherical_1.obj"/>
      </geometry>
    </visual>
    <collision>
      <geometry>
        <mesh filename="package://movo_description_drake/meshes/manipulation/jaco/collision/wrist_spherical_1.obj"/>
      </geometry>
    </collision>
    <inertial>
      <mass value="1"/>
      <inertia ixx="0.04" ixy="0.00" ixz="0.00" iyy="0.04" iyz="0.00" izz="0.02"/>
    </inertial>
  </link>
  <gazebo reference="left_wrist_spherical_1_link">
    <implicitSpringDamper>1</implicitSpringDamper>
    <kp>1000000.0</kp>
    <kd>100.0</kd>
    <mu1>1.0</mu1>
    <mu2>1.0</mu2>
    <maxVel>100.0</maxVel>
    <minDepth>0.001</minDepth>
  </gazebo>
  <joint name="left_wrist_spherical_2_joint" type="revolute">
    <parent link="left_wrist_spherical_1_link"/>
    <child link="left_wrist_spherical_2_link"/>
    <origin rpy="-1.570796325 0 0" xyz="0 0 -0.10375 "/>
    <axis xyz="0 0 1"/>
    <limit effort="60000.8" lower="-2.78" upper="2.78" velocity="0.921533845"/>
    <dynamics damping="0.01" friction="0.0"/>
  </joint>
  <link name="left_wrist_spherical_2_link">
    <visual>
      <geometry>
        <mesh filename="package://movo_description_drake/meshes/manipulation/jaco/collision/wrist_spherical_2.obj"/>
      </geometry>
    </visual>
    <collision>
      <geometry>
        <mesh filename="package://movo_description_drake/meshes/manipulation/jaco/collision/wrist_spherical_2.obj"/>
      </geometry>
    </collision>
    <inertial>
      <mass value="1"/>
      <inertia ixx="0.04" ixy="0.00" ixz="0.00" iyy="0.04" iyz="0.00" izz="0.02"/>
    </inertial>
  </link>
  <gazebo reference="left_wrist_spherical_2_link">
    <implicitSpringDamper>1</implicitSpringDamper>
    <kp>1000000.0</kp>
    <kd>100.0</kd>
    <mu1>1.0</mu1>
    <mu2>1.0</mu2>
    <maxVel>100.0</maxVel>
    <minDepth>0.001</minDepth>
  </gazebo>
  <joint name="left_wrist_3_joint" type="revolute">
    <parent link="left_wrist_spherical_2_link"/>
    <child link="left_wrist_3_link"/>
    <origin rpy="1.570796325 3.14159265 0" xyz="0 0.10375 0"/>
    <axis xyz="0 0 1"/>
    <limit effort="60000.8" lower="-3.14159265" upper="3.14159265" velocity="0.921533845"/>
    <dynamics damping="0.01" friction="0.0"/>
  </joint>
  <link name="left_wrist_3_link">
    <visual>
      <geometry>
        <mesh filename="package://movo_description_drake/meshes/manipulation/jaco/collision/kinova_actuator_gearing.obj"/>
      </geometry>
    </visual>
    <collision>
      <geometry>
        <mesh filename="package://movo_description_drake/meshes/manipulation/jaco/collision/kinova_actuator_gearing.obj"/>
      </geometry>
    </collision>
    <inertial>
      <mass value="1"/>
      <inertia ixx="0.04" ixy="0.00" ixz="0.00" iyy="0.04" iyz="0.00" izz="0.02"/>
    </inertial>
  </link>
  <gazebo reference="left_wrist_3_link">
    <implicitSpringDamper>1</implicitSpringDamper>
    <kp>1000000.0</kp>
    <kd>100.0</kd>
    <mu1>1.0</mu1>
    <mu2>1.0</mu2>
    <maxVel>100.0</maxVel>
    <minDepth>0.001</minDepth>
  </gazebo>
  <joint name="left_ee_fixed_joint" type="fixed">
    <parent link="left_wrist_3_link"/>
    <child link="left_ee_link"/>
    <origin rpy="3.14159265 1.570796325 0" xyz="0 0 -0.1600"/>
  </joint>
  <link name="left_ee_link">
    <inertial>
      <mass value="1"/>
      <inertia ixx="0.04" ixy="0.00" ixz="0.00" iyy="0.04" iyz="0.00" izz="0.02"/>
    </inertial>
  </link>
  <!-- Modification -->
  <joint name="left_tool_fixed_joint" type="fixed">
    <parent link="left_ee_link"/>
    <child link="left_tool_link"/>
    <origin rpy="1.570796325 0 1.570796325" xyz="0 0 0"/>
  </joint>
  <link name="left_tool_link">
    <inertial>
      <mass value="1"/>
      <inertia ixx="0.04" ixy="0.00" ixz="0.00" iyy="0.04" iyz="0.00" izz="0.02"/>
    </inertial>
  </link>
  <transmission name="left_shoulder_pan_trans">
    <type>transmission_interface/SimpleTransmission</type>
    <joint name="left_shoulder_pan_joint">
      <hardwareInterface>PositionJointInterface</hardwareInterface>
    </joint>
    <actuator name="left_shoulder_pan_motor">
      <mechanicalReduction>1</mechanicalReduction>
    </actuator>
  </transmission>
  <transmission name="left_shoulder_lift_trans">
    <type>transmission_interface/SimpleTransmission</type>
    <joint name="left_shoulder_lift_joint">
      <hardwareInterface>PositionJointInterface</hardwareInterface>
    </joint>
    <actuator name="left_shoulder_lift_motor">
      <mechanicalReduction>1</mechanicalReduction>
    </actuator>
  </transmission>
  <transmission name="left_half_arm_trans">
    <type>transmission_interface/SimpleTransmission</type>
    <joint name="left_arm_half_joint">
      <hardwareInterface>PositionJointInterface</hardwareInterface>
    </joint>
    <actuator name="left_arm_half_motor">
      <mechanicalReduction>1</mechanicalReduction>
    </actuator>
  </transmission>
  <transmission name="left_elbow_trans">
    <type>transmission_interface/SimpleTransmission</type>
    <joint name="left_elbow_joint">
      <hardwareInterface>PositionJointInterface</hardwareInterface>
    </joint>
    <actuator name="left_elbow_motor">
      <mechanicalReduction>1</mechanicalReduction>
    </actuator>
  </transmission>
  <transmission name="left_wrist_spherical_1_trans">
    <type>transmission_interface/SimpleTransmission</type>
    <joint name="left_wrist_spherical_1_joint">
      <hardwareInterface>PositionJointInterface</hardwareInterface>
    </joint>
    <actuator name="left_wrist_spherical_1_motor">
      <mechanicalReduction>1</mechanicalReduction>
    </actuator>
  </transmission>
  <transmission name="left_wrist_spherical_2_trans">
    <type>transmission_interface/SimpleTransmission</type>
    <joint name="left_wrist_spherical_2_joint">
      <hardwareInterface>PositionJointInterface</hardwareInterface>
    </joint>
    <actuator name="left_wrist_spherical_2_motor">
      <mechanicalReduction>1</mechanicalReduction>
    </actuator>
  </transmission>
  <transmission name="left_wrist_3_trans">
    <type>transmission_interface/SimpleTransmission</type>
    <joint name="left_wrist_3_joint">
      <hardwareInterface>PositionJointInterface</hardwareInterface>
    </joint>
    <actuator name="left_wrist_3_motor">
      <mechanicalReduction>1</mechanicalReduction>
    </actuator>
  </transmission>
  <joint name="right_kinova_robotiq_coupler_joint" type="fixed">
    <parent link="right_ee_link"/>
    <child link="right_robotiq_coupler_link"/>
    <origin rpy="-3.14159265 1.570796325 0" xyz="-0.16 0 0"/>
  </joint>
  <link name="right_robotiq_coupler_link">
    <visual>
      <geometry>
        <mesh filename="package://movo_description_drake/meshes/manipulation/robotiq/collision/kinova_robotiq_coupler.obj"/>
      </geometry>
    </visual>
    <collision>
      <geometry>
        <mesh filename="package://movo_description_drake/meshes/manipulation/robotiq/collision/kinova_robotiq_coupler.obj"/>
      </geometry>
    </collision>
    <inertial>
      <mass value="1"/>
      <inertia ixx="0.04" ixy="0.00" ixz="0.00" iyy="0.04" iyz="0.00" izz="0.02"/>
    </inertial>
  </link>
  <gazebo reference="right_robotiq_coupler_link">
    <implicitSpringDamper>1</implicitSpringDamper>
    <mu1>100000</mu1>
    <mu2>100000</mu2>
    <kp>100000000.0</kp>
    <kd>1.0</kd>
  </gazebo>
  <joint name="right_gripper_base_joint" type="fixed">
    <parent link="right_robotiq_coupler_link"/>
    <child link="right_gripper_base_link"/>
    <origin rpy="-1.570796325 1.570796325 0.0" xyz="0 0 -0.05105"/>
  </joint>
  <link name="right_gripper_base_link">
    <visual>
      <geometry>
        <mesh filename="package://movo_description_drake/meshes/manipulation/robotiq/collision/robotiq_85_base_link.obj"/>
      </geometry>
    </visual>
    <collision>
      <geometry>
        <mesh filename="package://movo_description_drake/meshes/manipulation/robotiq/collision/robotiq_85_base_link.obj"/>
      </geometry>
    </collision>
    <inertial>
      <mass value="1"/>
      <inertia ixx="0.04" ixy="0.00" ixz="0.00" iyy="0.04" iyz="0.00" izz="0.02"/>
    </inertial>
  </link>
  <gazebo reference="right_gripper_base_link">
    <implicitSpringDamper>1</implicitSpringDamper>
    <mu1>100000</mu1>
    <mu2>100000</mu2>
    <kp>100000000.0</kp>
    <kd>1.0</kd>
  </gazebo>
  <joint name="right_gripper_finger1_joint" type="revolute">
    <parent link="right_gripper_base_link"/>
    <child link="right_gripper_finger1_knuckle_link"/>
    <axis xyz="0 0 1"/>
    <origin rpy="3.14159265 0.0 0.0" xyz="0.05490451627 0.03060114443 0.0"/>
    <limit effort="1000" lower="0.0" upper="0.804" velocity="2.0"/>
  </joint>
  <joint name="right_gripper_finger2_joint" type="revolute">
    <parent link="right_gripper_base_link"/>
    <child link="right_gripper_finger2_knuckle_link"/>
    <axis xyz="0 0 1"/>
    <origin rpy="0.0 0.0 0.0" xyz="0.05490451627 -0.03060114443 0.0"/>
    <limit effort="1000" lower="-3.14" upper="3.14" velocity="100.0"/>
    <mimic joint="right_gripper_finger1_joint"/>
  </joint>
  <link name="right_gripper_finger1_knuckle_link">
    <visual>
      <geometry>
        <mesh filename="package://movo_description_drake/meshes/manipulation/robotiq/collision/robotiq_85_knuckle_link.obj"/>
      </geometry>
    </visual>
    <collision>
      <geometry>
        <mesh filename="package://movo_description_drake/meshes/manipulation/robotiq/collision/robotiq_85_knuckle_link.obj"/>
      </geometry>
    </collision>
    <inertial>
      <mass value="1"/>
      <inertia ixx="0.04" ixy="0.00" ixz="0.00" iyy="0.04" iyz="0.00" izz="0.02"/>
    </inertial>
  </link>
  <gazebo reference="right_gripper_finger1_knuckle_link">
    <implicitSpringDamper>1</implicitSpringDamper>
    <mu1>100000</mu1>
    <mu2>100000</mu2>
    <kp>100000000.0</kp>
    <kd>1.0</kd>
  </gazebo>
  <link name="right_gripper_finger2_knuckle_link">
    <visual>
      <geometry>
        <mesh filename="package://movo_description_drake/meshes/manipulation/robotiq/collision/robotiq_85_knuckle_link.obj"/>
      </geometry>
    </visual>
    <collision>
      <geometry>
        <mesh filename="package://movo_description_drake/meshes/manipulation/robotiq/collision/robotiq_85_knuckle_link.obj"/>
      </geometry>
    </collision>
    <inertial>
      <mass value="1"/>
      <inertia ixx="0.04" ixy="0.00" ixz="0.00" iyy="0.04" iyz="0.00" izz="0.02"/>
    </inertial>
  </link>
  <gazebo reference="right_gripper_finger2_knuckle_link">
    <implicitSpringDamper>1</implicitSpringDamper>
    <mu1>100000</mu1>
    <mu2>100000</mu2>
    <kp>100000000.0</kp>
    <kd>1.0</kd>
  </gazebo>
  <joint name="right_gripper_finger1_finger_joint" type="fixed">
    <parent link="right_gripper_finger1_knuckle_link"/>
    <child link="right_gripper_finger1_finger_link"/>
    <origin rpy="0 0 0" xyz="-0.00408552455 -0.03148604435 0.0"/>
  </joint>
  <joint name="right_gripper_finger2_finger_joint" type="fixed">
    <parent link="right_gripper_finger2_knuckle_link"/>
    <child link="right_gripper_finger2_finger_link"/>
    <origin rpy="0 0 0" xyz="-0.00408552455 -0.03148604435 0.0"/>
  </joint>
  <link name="right_gripper_finger1_finger_link">
    <visual>
      <geometry>
        <mesh filename="package://movo_description_drake/meshes/manipulation/robotiq/collision/robotiq_85_finger_link.obj"/>
      </geometry>
    </visual>
    <collision>
      <geometry>
        <mesh filename="package://movo_description_drake/meshes/manipulation/robotiq/collision/robotiq_85_finger_link.obj"/>
      </geometry>
    </collision>
    <inertial>
      <mass value="1"/>
      <inertia ixx="0.04" ixy="0.00" ixz="0.00" iyy="0.04" iyz="0.00" izz="0.02"/>
    </inertial>
  </link>
  <gazebo reference="right_gripper_finger1_finger_link">
    <implicitSpringDamper>1</implicitSpringDamper>
    <mu1>100000</mu1>
    <mu2>100000</mu2>
    <kp>100000000.0</kp>
    <kd>1.0</kd>
  </gazebo>
  <link name="right_gripper_finger2_finger_link">
    <visual>
      <geometry>
        <mesh filename="package://movo_description_drake/meshes/manipulation/robotiq/collision/robotiq_85_finger_link.obj"/>
      </geometry>
    </visual>
    <collision>
      <geometry>
        <mesh filename="package://movo_description_drake/meshes/manipulation/robotiq/collision/robotiq_85_finger_link.obj"/>
      </geometry>
    </collision>
    <inertial>
      <mass value="1"/>
      <inertia ixx="0.04" ixy="0.00" ixz="0.00" iyy="0.04" iyz="0.00" izz="0.02"/>
    </inertial>
  </link>
  <gazebo reference="right_gripper_finger2_finger_link">
    <implicitSpringDamper>1</implicitSpringDamper>
    <mu1>100000</mu1>
    <mu2>100000</mu2>
    <kp>100000000.0</kp>
    <kd>1.0</kd>
  </gazebo>
  <joint name="right_gripper_finger1_inner_knuckle_joint" type="continuous">
    <parent link="right_gripper_base_link"/>
    <child link="right_gripper_finger1_inner_knuckle_link"/>
    <axis xyz="0 0 1"/>
    <origin rpy="3.14159265 0.0 0.0" xyz="0.06142 0.0127 0"/>
    <limit effort="0.1" lower="-3.14" upper="3.14" velocity="100.0"/>
    <mimic joint="right_gripper_finger1_joint" offset="0"/>
  </joint>
  <joint name="right_gripper_finger2_inner_knuckle_joint" type="continuous">
    <parent link="right_gripper_base_link"/>
    <child link="right_gripper_finger2_inner_knuckle_link"/>
    <axis xyz="0 0 1"/>
    <origin rpy="0 0 0" xyz="0.06142 -0.0127 0"/>
    <limit effort="0.1" lower="-3.14" upper="3.14" velocity="100.0"/>
    <mimic joint="right_gripper_finger1_joint" offset="0"/>
  </joint>
  <link name="right_gripper_finger1_inner_knuckle_link">
    <visual>
      <geometry>
        <mesh filename="package://movo_description_drake/meshes/manipulation/robotiq/collision/robotiq_85_inner_knuckle_link.obj"/>
      </geometry>
    </visual>
    <collision>
      <geometry>
        <mesh filename="package://movo_description_drake/meshes/manipulation/robotiq/collision/robotiq_85_inner_knuckle_link.obj"/>
      </geometry>
    </collision>
    <inertial>
      <mass value="1"/>
      <inertia ixx="0.04" ixy="0.00" ixz="0.00" iyy="0.04" iyz="0.00" izz="0.02"/>
    </inertial>
  </link>
  <gazebo reference="right_gripper_finger1_inner_knuckle_link">
    <implicitSpringDamper>1</implicitSpringDamper>
    <mu1>100000</mu1>
    <mu2>100000</mu2>
    <kp>100000000.0</kp>
    <kd>1.0</kd>
  </gazebo>
  <link name="right_gripper_finger2_inner_knuckle_link">
    <visual>
      <geometry>
        <mesh filename="package://movo_description_drake/meshes/manipulation/robotiq/collision/robotiq_85_inner_knuckle_link.obj"/>
      </geometry>
    </visual>
    <collision>
      <geometry>
        <mesh filename="package://movo_description_drake/meshes/manipulation/robotiq/collision/robotiq_85_inner_knuckle_link.obj"/>
      </geometry>
    </collision>
    <inertial>
      <mass value="1"/>
      <inertia ixx="0.04" ixy="0.00" ixz="0.00" iyy="0.04" iyz="0.00" izz="0.02"/>
    </inertial>
  </link>
  <gazebo reference="right_gripper_finger2_inner_knuckle_link">
    <implicitSpringDamper>1</implicitSpringDamper>
    <mu1>100000</mu1>
    <mu2>100000</mu2>
    <kp>100000000.0</kp>
    <kd>1.0</kd>
  </gazebo>
  <joint name="right_gripper_finger1_finger_tip_joint" type="continuous">
    <parent link="right_gripper_finger1_inner_knuckle_link"/>
    <child link="right_gripper_finger1_finger_tip_link"/>
    <axis xyz="0 0 1"/>
    <origin rpy="0.0 0.0 0.0" xyz="0.04303959807 -0.03759940821 0.0"/>
    <limit effort="0.1" lower="-3.14" upper="3.14" velocity="100.0"/>
    <mimic joint="right_gripper_finger1_joint" multiplier="-1"/>
  </joint>
  <joint name="right_gripper_finger2_finger_tip_joint" type="continuous">
    <parent link="right_gripper_finger2_inner_knuckle_link"/>
    <child link="right_gripper_finger2_finger_tip_link"/>
    <axis xyz="0 0 1"/>
    <origin rpy="0.0 0.0 0.0" xyz="0.04303959807 -0.03759940821  0.0"/>
    <limit effort="0.1" lower="-3.14" upper="3.14" velocity="100.0"/>
    <mimic joint="right_gripper_finger1_joint" multiplier="-1"/>
  </joint>
  <link name="right_gripper_finger1_finger_tip_link">
    <visual>
      <geometry>
        <mesh filename="package://movo_description_drake/meshes/manipulation/robotiq/collision/robotiq_85_finger_tip_link.obj"/>
      </geometry>
    </visual>
    <collision>
      <geometry>
        <mesh filename="package://movo_description_drake/meshes/manipulation/robotiq/collision/robotiq_85_finger_tip_link.obj"/>
      </geometry>
    </collision>
    <inertial>
      <mass value="1"/>
      <inertia ixx="0.04" ixy="0.00" ixz="0.00" iyy="0.04" iyz="0.00" izz="0.02"/>
    </inertial>
  </link>
  <gazebo reference="right_gripper_finger1_finger_tip_link">
    <implicitSpringDamper>1</implicitSpringDamper>
    <mu1>100000</mu1>
    <mu2>100000</mu2>
    <kp>100000000.0</kp>
    <kd>1.0</kd>
  </gazebo>
  <link name="right_gripper_finger2_finger_tip_link">
    <visual>
      <geometry>
        <mesh filename="package://movo_description_drake/meshes/manipulation/robotiq/collision/robotiq_85_finger_tip_link.obj"/>
      </geometry>
    </visual>
    <collision>
      <geometry>
        <mesh filename="package://movo_description_drake/meshes/manipulation/robotiq/collision/robotiq_85_finger_tip_link.obj"/>
      </geometry>
    </collision>
    <inertial>
      <mass value="1"/>
      <inertia ixx="0.04" ixy="0.00" ixz="0.00" iyy="0.04" iyz="0.00" izz="0.02"/>
    </inertial>
  </link>
  <gazebo reference="right_gripper_finger2_finger_tip_link">
    <implicitSpringDamper>1</implicitSpringDamper>
    <mu1>100000</mu1>
    <mu2>100000</mu2>
    <kp>100000000.0</kp>
    <kd>1.0</kd>
  </gazebo>
  <transmission name="right_gripper_finger1_trans">
    <type>transmission_interface/SimpleTransmission</type>
    <joint name="right_gripper_finger1_joint">
      <hardwareInterface>PositionJointInterface</hardwareInterface>
    </joint>
    <actuator name="right_gripper_finger1_motor">
      <mechanicalReduction>1</mechanicalReduction>
      <hardwareInterface>PositionJointInterface</hardwareInterface>
    </actuator>
  </transmission>
  <gazebo>
    <!-- loading plugin: mimic joints works in gazebo now -->
    <plugin filename="libroboticsgroup_gazebo_mimic_joint_plugin.so" name="right_mimic_robotiq_85_1">
      <joint>right_gripper_finger1_joint</joint>
      <mimicJoint>right_gripper_finger2_joint</mimicJoint>
      <!--multiplier>1.0</multiplier>
                <offset>0.0</offset-->
    </plugin>
    <plugin filename="libroboticsgroup_gazebo_mimic_joint_plugin.so" name="right_mimic_robotiq_85_2">
      <joint>right_gripper_finger1_joint</joint>
      <mimicJoint>right_gripper_finger2_inner_knuckle_joint</mimicJoint>
      <!--multiplier>1.0</multiplier>
                <offset>0.0</offset-->
    </plugin>
    <plugin filename="libroboticsgroup_gazebo_mimic_joint_plugin.so" name="right_mimic_robotiq_85_3">
      <joint>right_gripper_finger1_joint</joint>
      <mimicJoint>right_gripper_finger1_inner_knuckle_joint</mimicJoint>
      <!--multiplier>1.0</multiplier>
                <offset>0.0</offset-->
    </plugin>
    <plugin filename="libroboticsgroup_gazebo_mimic_joint_plugin.so" name="right_mimic_robotiq_85_4">
      <joint>right_gripper_finger1_joint</joint>
      <mimicJoint>right_gripper_finger1_finger_tip_joint</mimicJoint>
      <multiplier>-1.0</multiplier>
      <offset>0.0</offset>
    </plugin>
    <plugin filename="libroboticsgroup_gazebo_mimic_joint_plugin.so" name="right_mimic_robotiq_85_5">
      <joint>right_gripper_finger1_joint</joint>
      <mimicJoint>right_gripper_finger2_finger_tip_joint</mimicJoint>
      <multiplier>-1.0</multiplier>
      <offset>0.0</offset>
    </plugin>
  </gazebo>
  <joint name="left_gripper_base_joint" type="fixed">
    <parent link="left_ee_link"/>
    <child link="left_gripper_base_link"/>
    <origin rpy="-3.14159265 1.570796325 0" xyz="-0.16 0 0"/>
  </joint>
  <link name="left_gripper_base_link">
    <visual>
      <geometry>
        <mesh filename="package://movo_description_drake/meshes/manipulation/kinova_grippers/collision/kg3_base_link.obj"/>
      </geometry>
    </visual>
    <collision>
      <geometry>
        <mesh filename="package://movo_description_drake/meshes/manipulation/kinova_grippers/collision/kg3_base_link.obj"/>
      </geometry>
    </collision>
    <inertial>
      <mass value="1"/>
      <inertia ixx="0.04" ixy="0.00" ixz="0.00" iyy="0.04" iyz="0.00" izz="0.02"/>
    </inertial>
  </link>
  <gazebo reference="left_gripper_base_link">
    <!--implicitSpringDamper>1</implicitSpringDamper-->
    <kp>1000000.0</kp>
    <kd>1.0</kd>
    <mu1>0.8</mu1>
    <mu2>0.8</mu2>
    <maxVel>0.0</maxVel>
    <minDepth>0.0001</minDepth>
  </gazebo>
  <joint name="left_gripper_finger1_joint" type="revolute">
    <parent link="left_gripper_base_link"/>
    <child link="left_gripper_finger1_knuckle_link"/>
    <axis xyz="0 0 1"/>
    <origin rpy="1.4676 -0.0092813 -1.7501" xyz="-0.0027954 0.031318 -0.11464"/>
    <limit damping="0.005" effort="3.0" friction="0.005" lower="0.0" upper="0.986111027" velocity="1.0"/>
  </joint>
  <link name="left_gripper_finger1_knuckle_link">
    <visual>
      <geometry>
        <mesh filename="package://movo_description_drake/meshes/manipulation/kinova_grippers/collision/finger_knuckle.obj"/>
      </geometry>
    </visual>
    <collision>
      <geometry>
        <mesh filename="package://movo_description_drake/meshes/manipulation/kinova_grippers/collision/finger_knuckle.obj"/>
      </geometry>
    </collision>
    <inertial>
      <mass value="1"/>
      <inertia ixx="0.04" ixy="0.00" ixz="0.00" iyy="0.04" iyz="0.00" izz="0.02"/>
    </inertial>
  </link>
  <gazebo reference="left_gripper_finger1_knuckle_link">
    <!--implicitSpringDamper>1</implicitSpringDamper-->
    <kp>1000000.0</kp>
    <kd>1.0</kd>
    <mu1>0.8</mu1>
    <mu2>0.8</mu2>
    <maxVel>0.0</maxVel>
    <minDepth>0.0001</minDepth>
  </gazebo>
  <joint name="left_gripper_finger2_joint" type="revolute">
    <parent link="left_gripper_base_link"/>
    <child link="left_gripper_finger2_knuckle_link"/>
    <axis xyz="0 0 1"/>
    <origin rpy="1.570796325 0 1.7555" xyz="0.022289 -0.027253 -0.11471"/>
    <limit damping="0.005" effort="3.0" friction="0.005" lower="0.0" upper="0.986111027" velocity="1.0"/>
    <mimic joint="left_gripper_finger1_joint"/>
  </joint>
  <link name="left_gripper_finger2_knuckle_link">
    <visual>
      <geometry>
        <mesh filename="package://movo_description_drake/meshes/manipulation/kinova_grippers/collision/finger_knuckle.obj"/>
      </geometry>
    </visual>
    <collision>
      <geometry>
        <mesh filename="package://movo_description_drake/meshes/manipulation/kinova_grippers/collision/finger_knuckle.obj"/>
      </geometry>
    </collision>
    <inertial>
      <mass value="1"/>
      <inertia ixx="0.04" ixy="0.00" ixz="0.00" iyy="0.04" iyz="0.00" izz="0.02"/>
    </inertial>
  </link>
  <gazebo reference="left_gripper_finger2_knuckle_link">
    <!--implicitSpringDamper>1</implicitSpringDamper-->
    <kp>1000000.0</kp>
    <kd>1.0</kd>
    <mu1>0.8</mu1>
    <mu2>0.8</mu2>
    <maxVel>0.0</maxVel>
    <minDepth>0.0001</minDepth>
  </gazebo>
  <joint name="left_gripper_finger3_joint" type="revolute">
    <parent link="left_gripper_base_link"/>
    <child link="left_gripper_finger3_knuckle_link"/>
    <axis xyz="0 0 1"/>
    <origin rpy="1.570796325 0 1.3861" xyz="-0.022284 -0.027223 -0.11473"/>
    <limit damping="0.005" effort="3.0" friction="0.005" lower="0.0" upper="0.986111027" velocity="1.0"/>
    <mimic joint="left_gripper_finger1_joint"/>
  </joint>
  <link name="left_gripper_finger3_knuckle_link">
    <visual>
      <geometry>
        <mesh filename="package://movo_description_drake/meshes/manipulation/kinova_grippers/collision/finger_knuckle.obj"/>
      </geometry>
    </visual>
    <collision>
      <geometry>
        <mesh filename="package://movo_description_drake/meshes/manipulation/kinova_grippers/collision/finger_knuckle.obj"/>
      </geometry>
    </collision>
    <inertial>
      <mass value="1"/>
      <inertia ixx="0.04" ixy="0.00" ixz="0.00" iyy="0.04" iyz="0.00" izz="0.02"/>
    </inertial>
  </link>
  <gazebo reference="left_gripper_finger3_knuckle_link">
    <!--implicitSpringDamper>1</implicitSpringDamper-->
    <kp>1000000.0</kp>
    <kd>1.0</kd>
    <mu1>0.8</mu1>
    <mu2>0.8</mu2>
    <maxVel>0.0</maxVel>
    <minDepth>0.0001</minDepth>
  </gazebo>
  <joint name="left_gripper_finger1_finger_tip_joint" type="fixed">
    <parent link="left_gripper_finger1_knuckle_link"/>
    <child link="left_gripper_finger1_finger_tip_link"/>
    <origin rpy="0 0 0" xyz="-0.0245981 -0.036051 0.0"/>
  </joint>
  <link name="left_gripper_finger1_finger_tip_link">
    <visual>
      <geometry>
        <mesh filename="package://movo_description_drake/meshes/manipulation/kinova_grippers/collision/finger_tip.obj"/>
      </geometry>
    </visual>
    <collision>
      <geometry>
        <mesh filename="package://movo_description_drake/meshes/manipulation/kinova_grippers/collision/finger_tip.obj"/>
      </geometry>
    </collision>
    <inertial>
      <mass value="1"/>
      <inertia ixx="0.04" ixy="0.00" ixz="0.00" iyy="0.04" iyz="0.00" izz="0.02"/>
    </inertial>
  </link>
  <gazebo reference="left_gripper_finger1_finger_tip_link">
    <!--implicitSpringDamper>1</implicitSpringDamper-->
    <kp>1000000.0</kp>
    <kd>1.0</kd>
    <mu1>0.8</mu1>
    <mu2>0.8</mu2>
    <maxVel>0.0</maxVel>
    <minDepth>0.0001</minDepth>
  </gazebo>
  <joint name="left_gripper_finger2_finger_tip_joint" type="fixed">
    <parent link="left_gripper_finger2_knuckle_link"/>
    <child link="left_gripper_finger2_finger_tip_link"/>
    <origin rpy="0 0 0" xyz="-0.0245981 -0.036051 0.0"/>
  </joint>
  <link name="left_gripper_finger2_finger_tip_link">
    <visual>
      <geometry>
        <mesh filename="package://movo_description_drake/meshes/manipulation/kinova_grippers/collision/finger_tip.obj"/>
      </geometry>
    </visual>
    <collision>
      <geometry>
        <mesh filename="package://movo_description_drake/meshes/manipulation/kinova_grippers/collision/finger_tip.obj"/>
      </geometry>
    </collision>
    <inertial>
      <mass value="1"/>
      <inertia ixx="0.04" ixy="0.00" ixz="0.00" iyy="0.04" iyz="0.00" izz="0.02"/>
    </inertial>
  </link>
  <gazebo reference="left_gripper_finger2_finger_tip_link">
    <!--implicitSpringDamper>1</implicitSpringDamper-->
    <kp>1000000.0</kp>
    <kd>1.0</kd>
    <mu1>0.8</mu1>
    <mu2>0.8</mu2>
    <maxVel>0.0</maxVel>
    <minDepth>0.0001</minDepth>
  </gazebo>
  <joint name="left_gripper_finger3_finger_tip_joint" type="fixed">
    <parent link="left_gripper_finger3_knuckle_link"/>
    <child link="left_gripper_finger3_finger_tip_link"/>
    <origin rpy="0 0 0" xyz="-0.0245981 -0.036051 0.0"/>
  </joint>
  <link name="left_gripper_finger3_finger_tip_link">
    <visual>
      <geometry>
        <mesh filename="package://movo_description_drake/meshes/manipulation/kinova_grippers/collision/finger_tip.obj"/>
      </geometry>
    </visual>
    <collision>
      <geometry>
        <mesh filename="package://movo_description_drake/meshes/manipulation/kinova_grippers/collision/finger_tip.obj"/>
      </geometry>
    </collision>
    <inertial>
      <mass value="1"/>
      <inertia ixx="0.04" ixy="0.00" ixz="0.00" iyy="0.04" iyz="0.00" izz="0.02"/>
    </inertial>
  </link>
  <gazebo reference="left_gripper_finger3_finger_tip_link">
    <!--implicitSpringDamper>1</implicitSpringDamper-->
    <kp>1000000.0</kp>
    <kd>1.0</kd>
    <mu1>0.8</mu1>
    <mu2>0.8</mu2>
    <maxVel>0.0</maxVel>
    <minDepth>0.0001</minDepth>
  </gazebo>
  <transmission name="left_gripper_finger1_trans">
    <type>transmission_interface/SimpleTransmission</type>
    <joint name="left_gripper_finger1_joint">
      <hardwareInterface>EffortJointInterface</hardwareInterface>
    </joint>
    <actuator name="left_gripper_finger1_motor">
      <mechanicalReduction>1</mechanicalReduction>
      <hardwareInterface>EffortJointInterface</hardwareInterface>
    </actuator>
  </transmission>
  <gazebo>
    <!-- loading plugin: mimic joints works in gazebo now -->
    <plugin filename="libroboticsgroup_gazebo_mimic_joint_plugin.so" name="left_mimic_finger_1_2">
      <joint>left_gripper_finger1_joint</joint>
      <mimicJoint>left_gripper_finger2_joint</mimicJoint>
    </plugin>
    <!-- loading plugin: mimic joints works in gazebo now -->
    <plugin filename="libroboticsgroup_gazebo_mimic_joint_plugin.so" name="left_mimic_finger_1_3">
      <joint>left_gripper_finger1_joint</joint>
      <mimicJoint>left_gripper_finger3_joint</mimicJoint>
    </plugin>
  </gazebo>
  <gazebo>
    <plugin filename="libgazebo_grasp_fix.so" name="gazebo_right_grasp_fix">
      <arm>
        <arm_name>right_arm</arm_name>
        <palm_link> right_wrist_3_link </palm_link>
        <gripper_link> right_gripper_finger1_knuckle_link </gripper_link>
        <gripper_link> right_gripper_finger1_finger_link </gripper_link>
        <gripper_link> right_gripper_finger1_inner_knuckle_link </gripper_link>
        <gripper_link> right_gripper_finger1_finger_tip_link </gripper_link>
        <gripper_link> right_gripper_finger2_knuckle_link </gripper_link>
        <gripper_link> right_gripper_finger2_finger_link </gripper_link>
        <gripper_link> right_gripper_finger2_inner_knuckle_link </gripper_link>
        <gripper_link> right_gripper_finger2_finger_tip_link </gripper_link>
      </arm>
      <forces_angle_tolerance>90</forces_angle_tolerance>
      <update_rate>20</update_rate>
      <grip_count_threshold>1</grip_count_threshold>
      <max_grip_count>2</max_grip_count>
      <release_tolerance>0.005</release_tolerance>
      <disable_collisions_on_attach>true</disable_collisions_on_attach>
      <contact_topic>right_gripper/contacts</contact_topic>
    </plugin>
  </gazebo>
  <gazebo>
    <plugin filename="libgazebo_grasp_fix.so" name="gazebo_left_grasp_fix">
      <arm>
        <arm_name>left_arm</arm_name>
        <palm_link> left_wrist_3_link </palm_link>
        <gripper_link> left_gripper_finger1_knuckle_link </gripper_link>
        <gripper_link> left_gripper_finger2_knuckle_link </gripper_link>
        <gripper_link> left_gripper_finger3_knuckle_link </gripper_link>
      </arm>
      <forces_angle_tolerance>100</forces_angle_tolerance>
      <update_rate>50</update_rate>
      <grip_count_threshold>1</grip_count_threshold>
      <max_grip_count>8</max_grip_count>
      <release_tolerance>0.006</release_tolerance>
      <disable_collisions_on_attach>true</disable_collisions_on_attach>
      <contact_topic>left_gripper/contacts</contact_topic>
    </plugin>
  </gazebo>
</robot>
